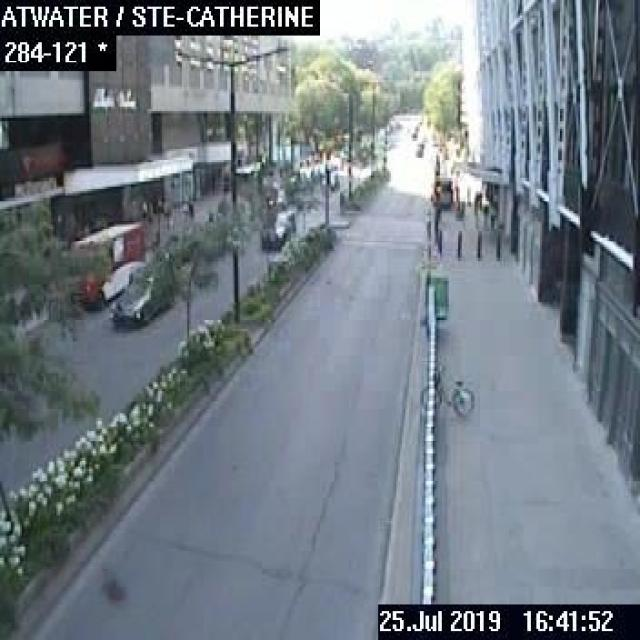vehicle: (69, 218, 143, 306), (108, 274, 174, 325), (260, 208, 295, 250)
